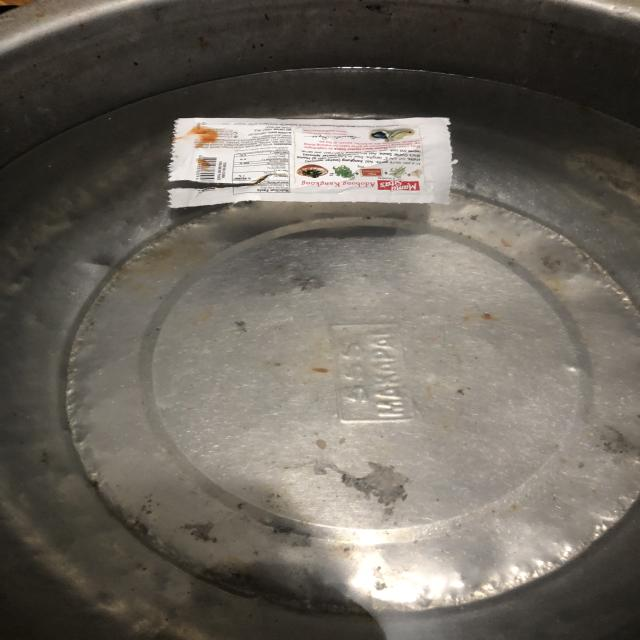Plastic Wrapper: (155, 110, 485, 234)
